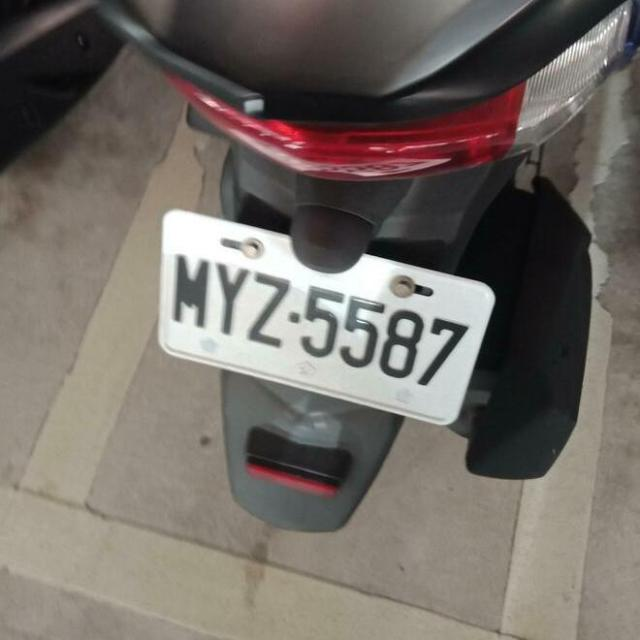W: (136, 201, 506, 434)
